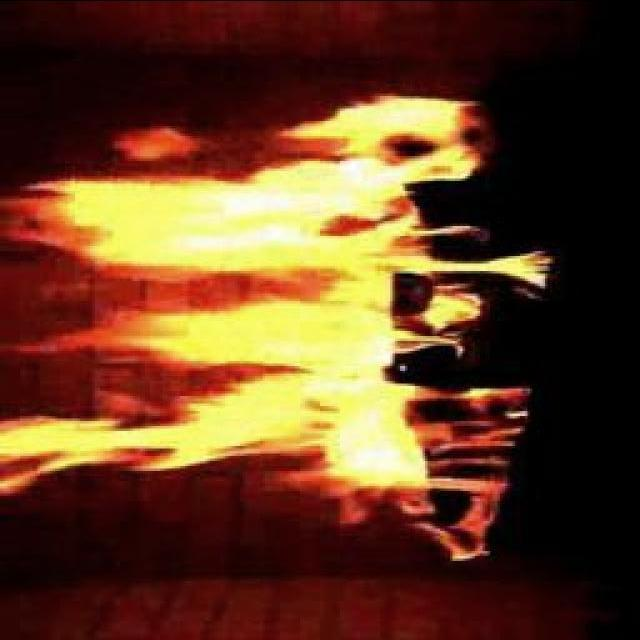Fire: (30, 108, 466, 482)
